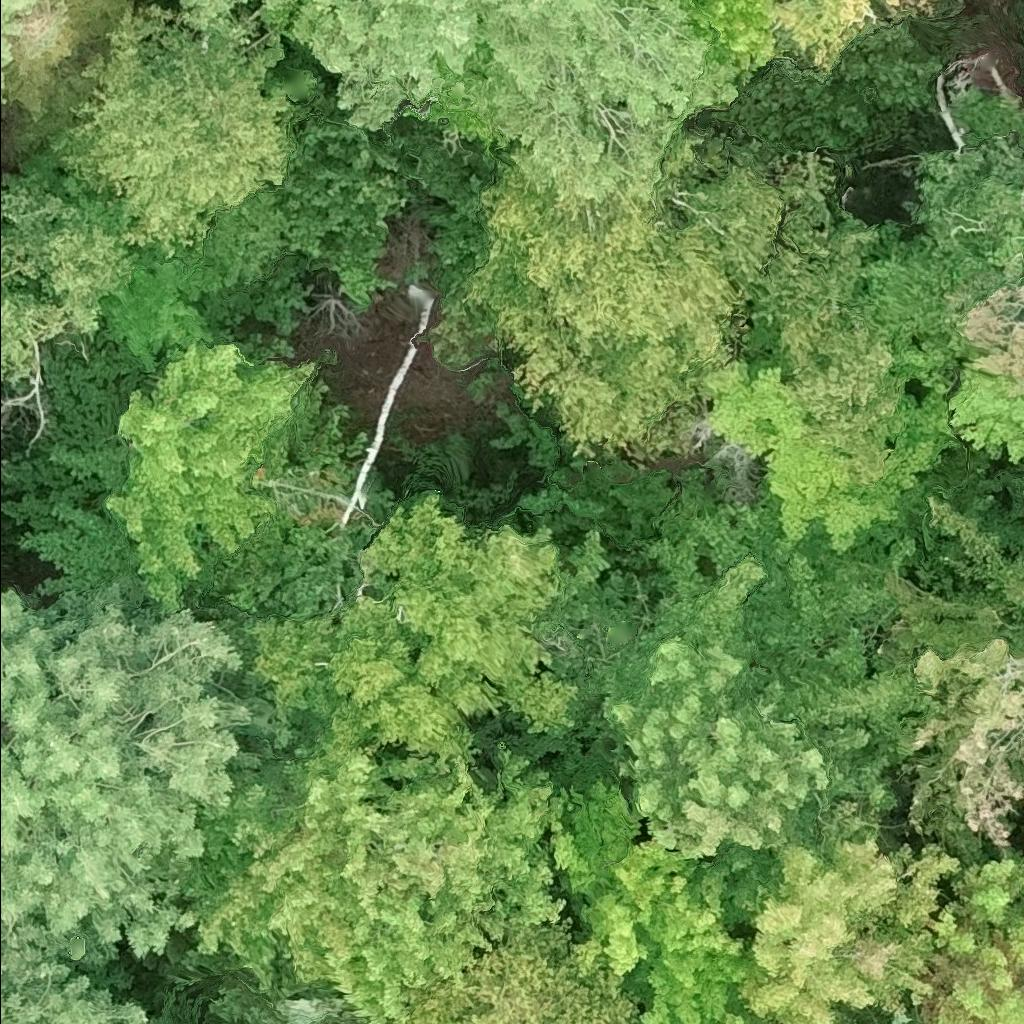crown: (433, 139, 907, 472), (169, 0, 748, 249), (589, 527, 932, 889), (222, 482, 617, 779), (178, 743, 581, 1023), (0, 575, 279, 967), (101, 324, 368, 615), (18, 8, 306, 263), (693, 347, 961, 558), (878, 493, 1023, 867), (548, 774, 763, 1023), (726, 798, 962, 1023), (0, 162, 141, 379), (393, 919, 641, 1023), (0, 0, 139, 159), (914, 847, 1023, 1023), (150, 940, 358, 1023), (0, 915, 152, 1023), (637, 0, 779, 72), (942, 365, 1023, 469), (958, 273, 1023, 400), (0, 0, 48, 116), (872, 999, 917, 1023), (1019, 187, 1023, 206), (1022, 246, 1023, 257)
